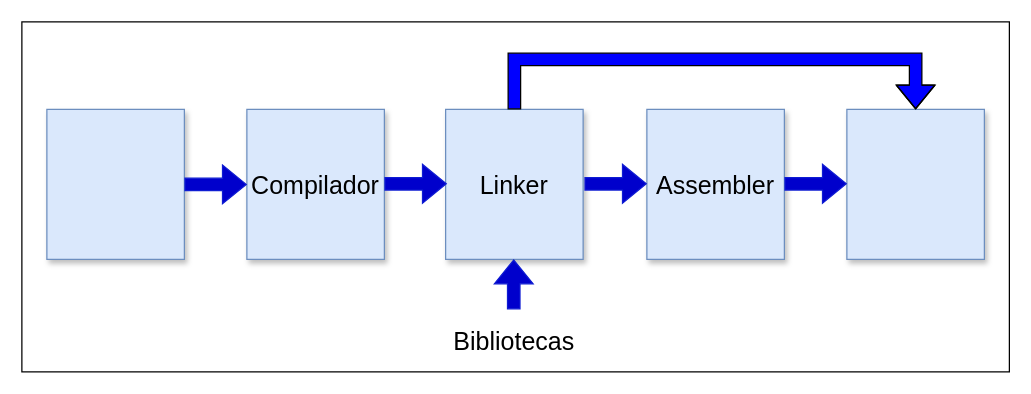
Image size: 1031x394. Some labels were removed from this diagram. Each missing label, with the centre of its shape:
"Código fuente" goes at [116,185].
"Ejecutable" goes at [916,185].
